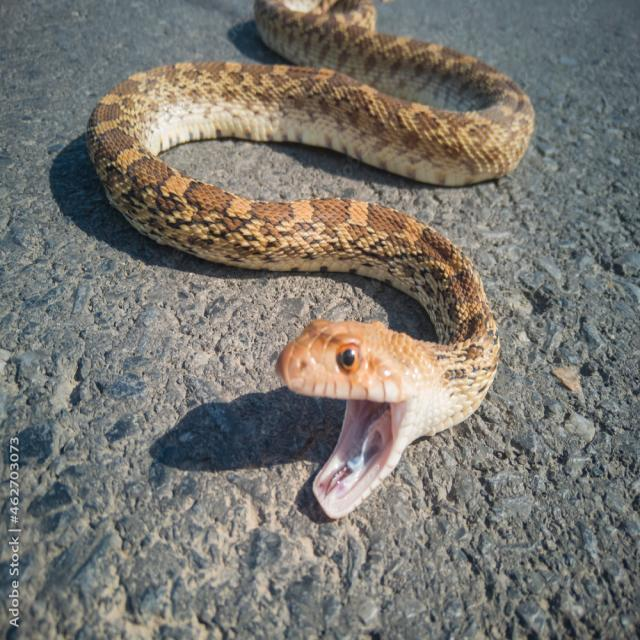Snake: (93, 0, 548, 524)
